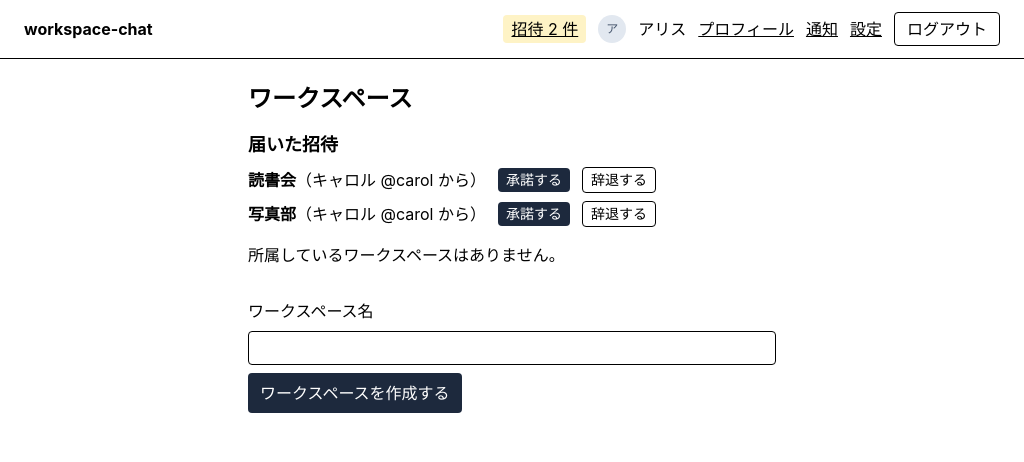
Test: 届いた招待の承諾と辞退（F-38） › 承諾が断られた後に別の招待の辞退が通ったら、承諾の理由を残さない
Click the button with aria-label "読書会 への招待を承諾する" at (534, 180), box [498,168,570,192]
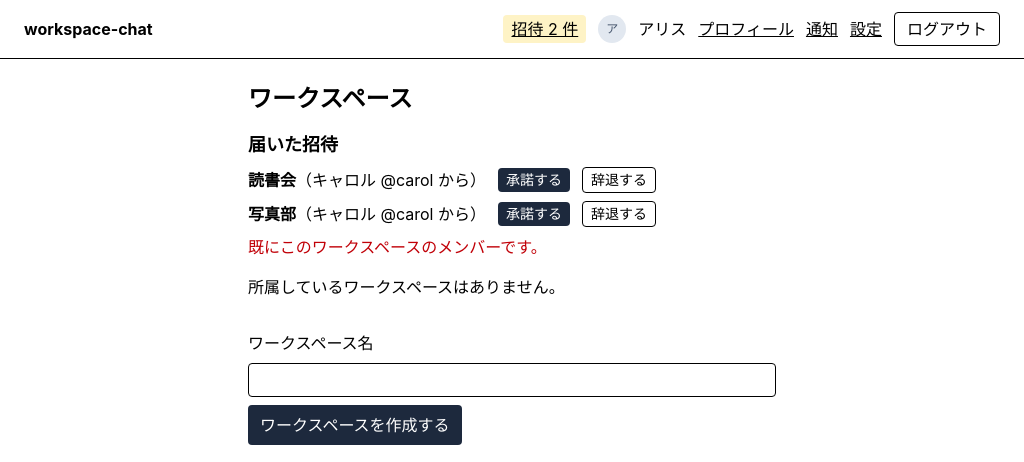
Expected: the text "既にこのワークスペースのメンバーです。" is shown, [248,237,547,257]
Click the button with aria-label "写真部 への招待を辞退する" at (619, 214), box [582,201,656,227]
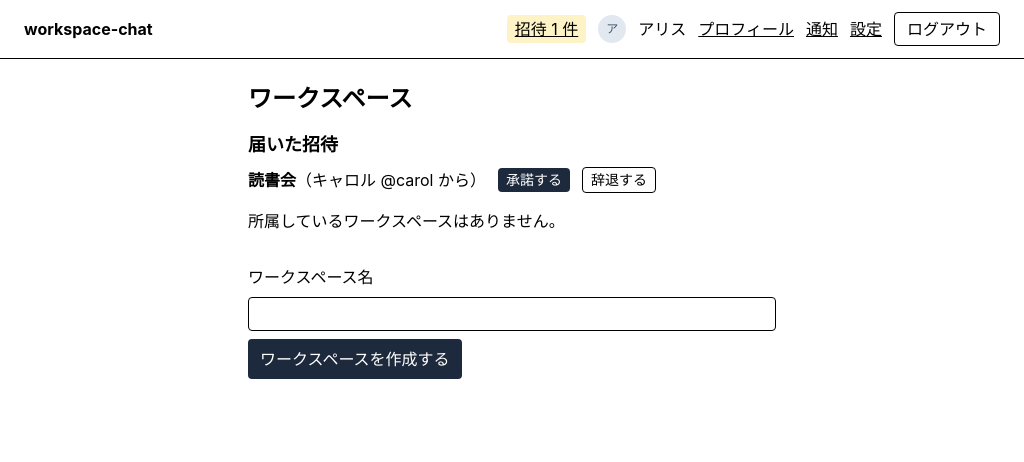
Expected: the text "届いた招待" no longer shows "写真部"
Expected: the text "既にこのワークスペースのメンバーです" is gone
